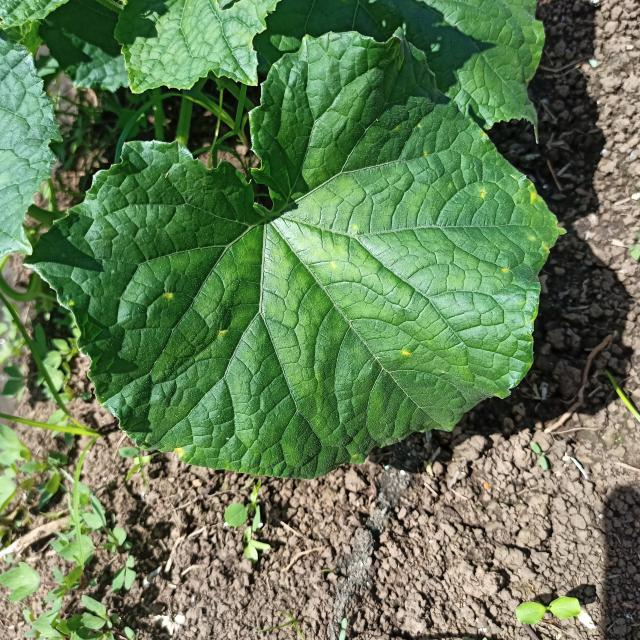disease_cucumber: (527, 182, 542, 203), (217, 328, 229, 336), (164, 292, 174, 300), (176, 446, 182, 457), (402, 350, 411, 356), (479, 189, 485, 198), (68, 300, 74, 308), (352, 224, 358, 232), (331, 262, 337, 268), (503, 268, 508, 274), (482, 133, 488, 137), (424, 152, 428, 156)
